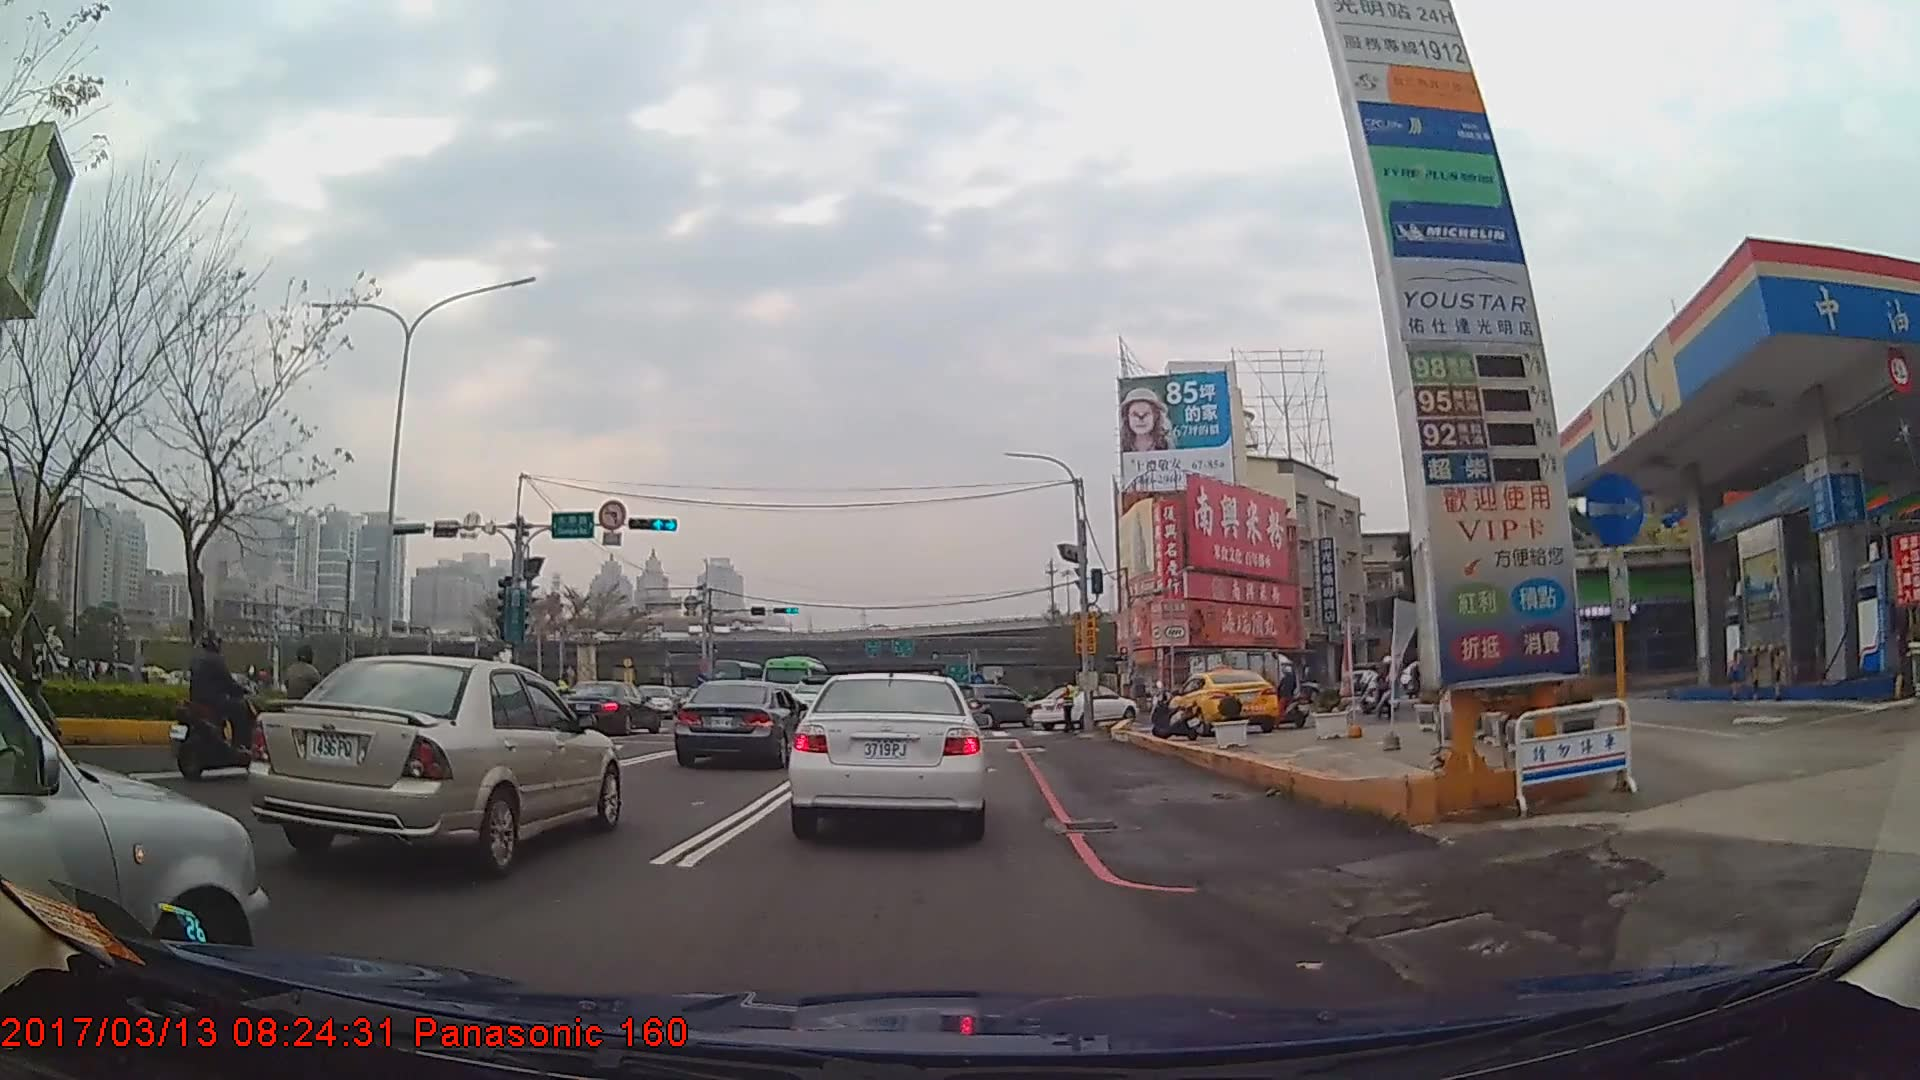pedestrian: (1051, 677, 1074, 735)
rider: (170, 627, 268, 781), (1, 603, 66, 778), (282, 643, 354, 763), (1361, 656, 1399, 720), (1271, 666, 1308, 728), (1358, 663, 1380, 716)
vehicle: (0, 661, 269, 986), (246, 652, 621, 877), (790, 665, 987, 838), (674, 679, 807, 769), (1184, 648, 1300, 715), (1168, 668, 1283, 734), (558, 679, 661, 733), (1033, 682, 1140, 729), (759, 654, 831, 712), (950, 682, 1037, 728)
